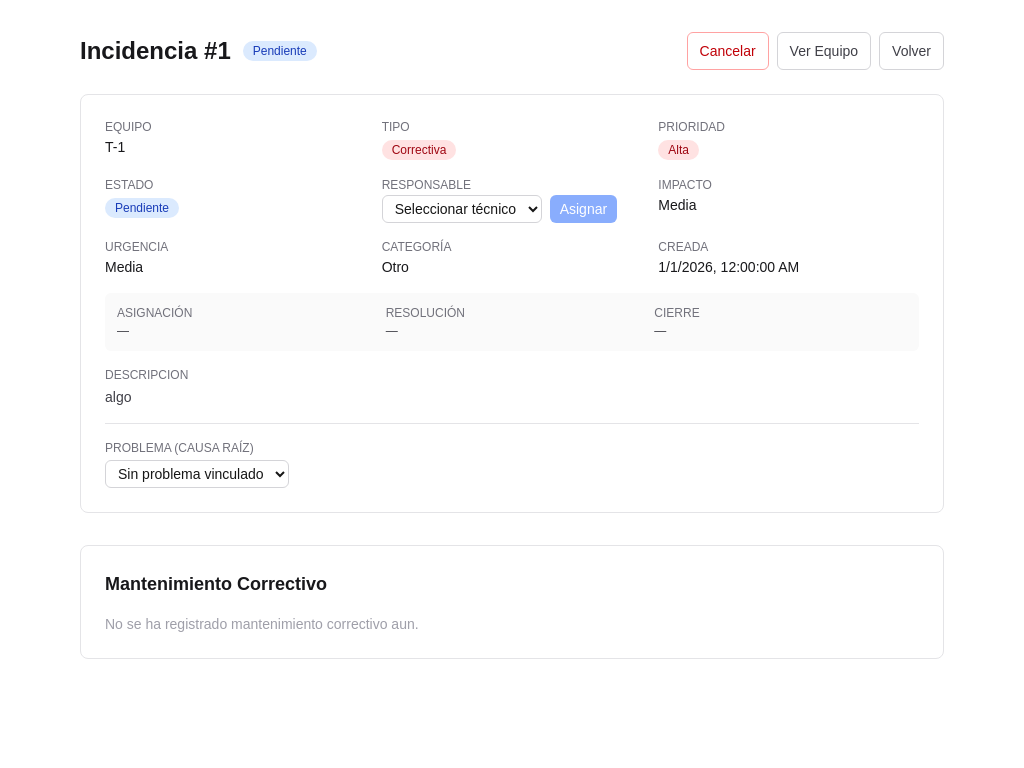
IncidenciaDetailPage › links the incidencia to a problema when the coordinador selects one
The width and height of the screenshot is (1024, 768).
Expected: the heading "Incidencia #1" is shown, [80,35,231,67]
Select "#42 — Lámpara UV" in the dropdown below "Problema (causa raíz)" at (197, 474), box [105,460,289,488]
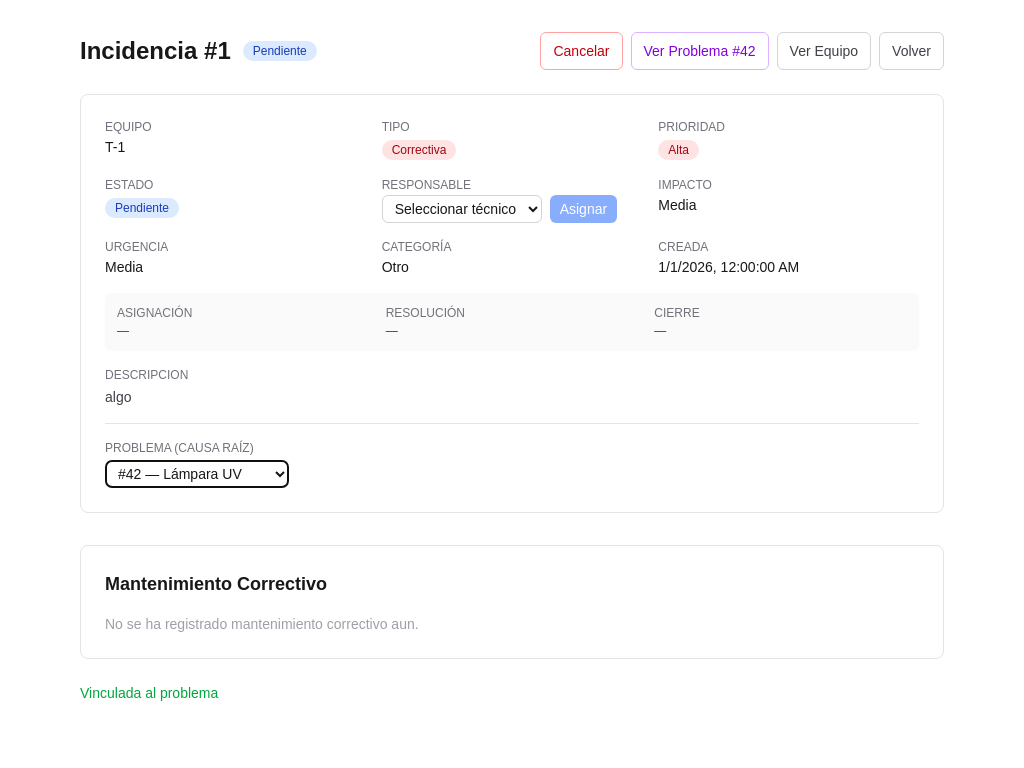
Now the text "Vinculada al problema" is shown, box [80,683,218,703]
